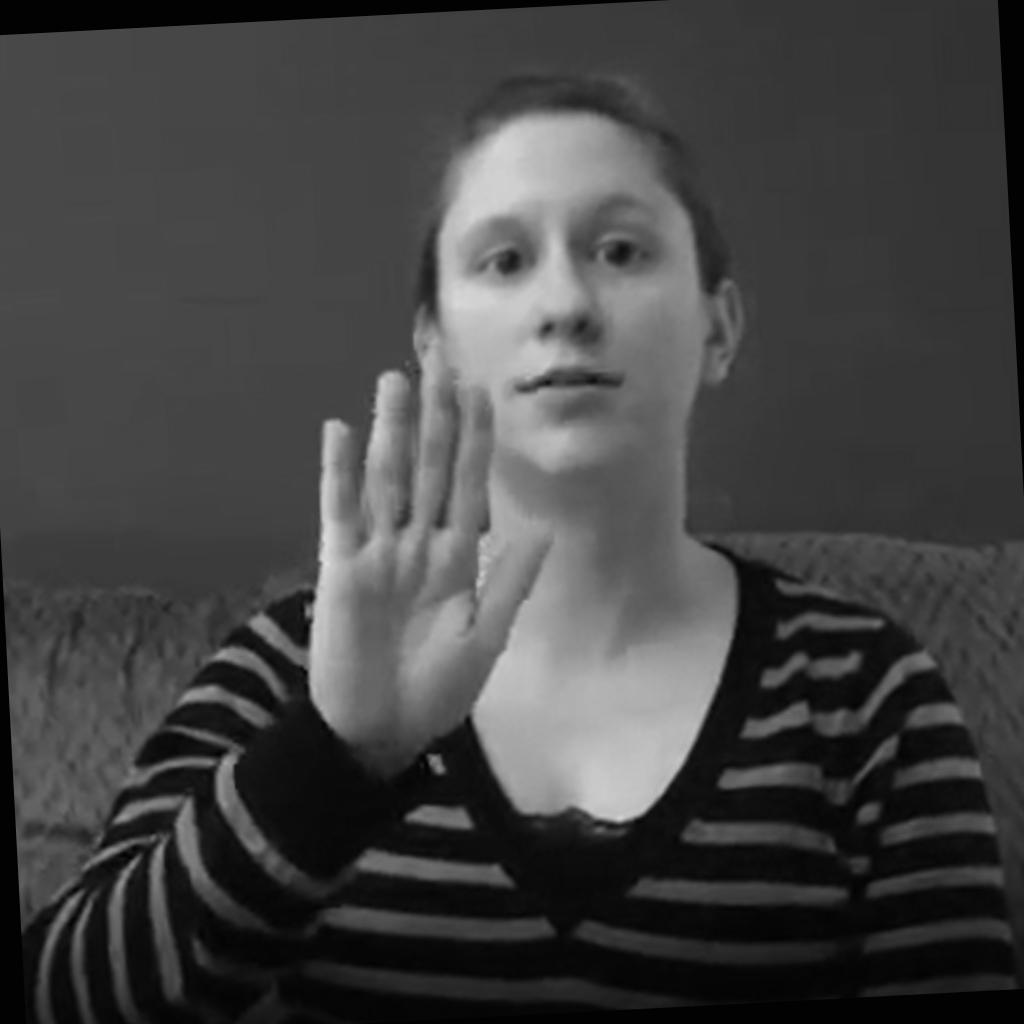your: (293, 356, 563, 747)
